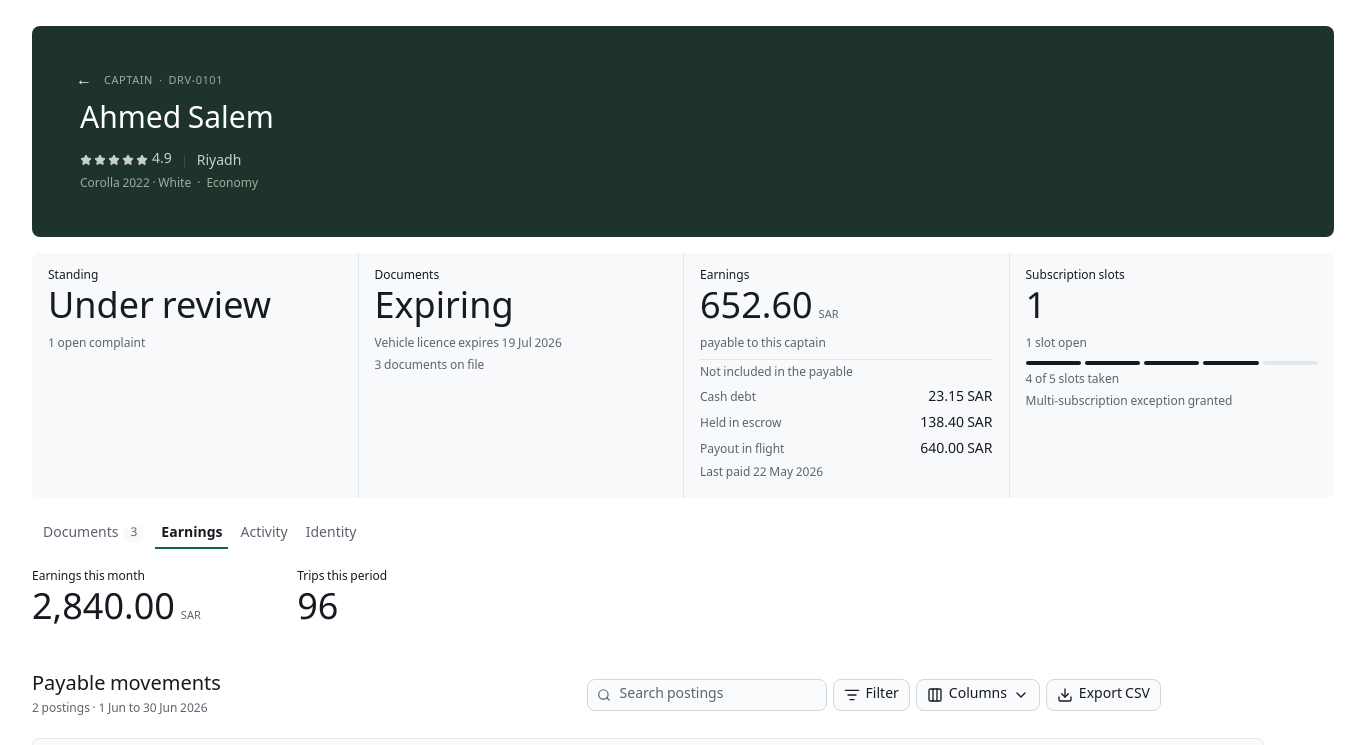
Test: the ledger’s three empties › ③ a search that narrows to nothing gets the shared filter sentence
Expected: the text "Ahmed Salem" is shown, [80,96,274,147]
Type "zzzznothingmatchesthis" into the field with placeholder "Search postings". click: (707, 695)
box: [587,679,827,711]
(page scrolled)
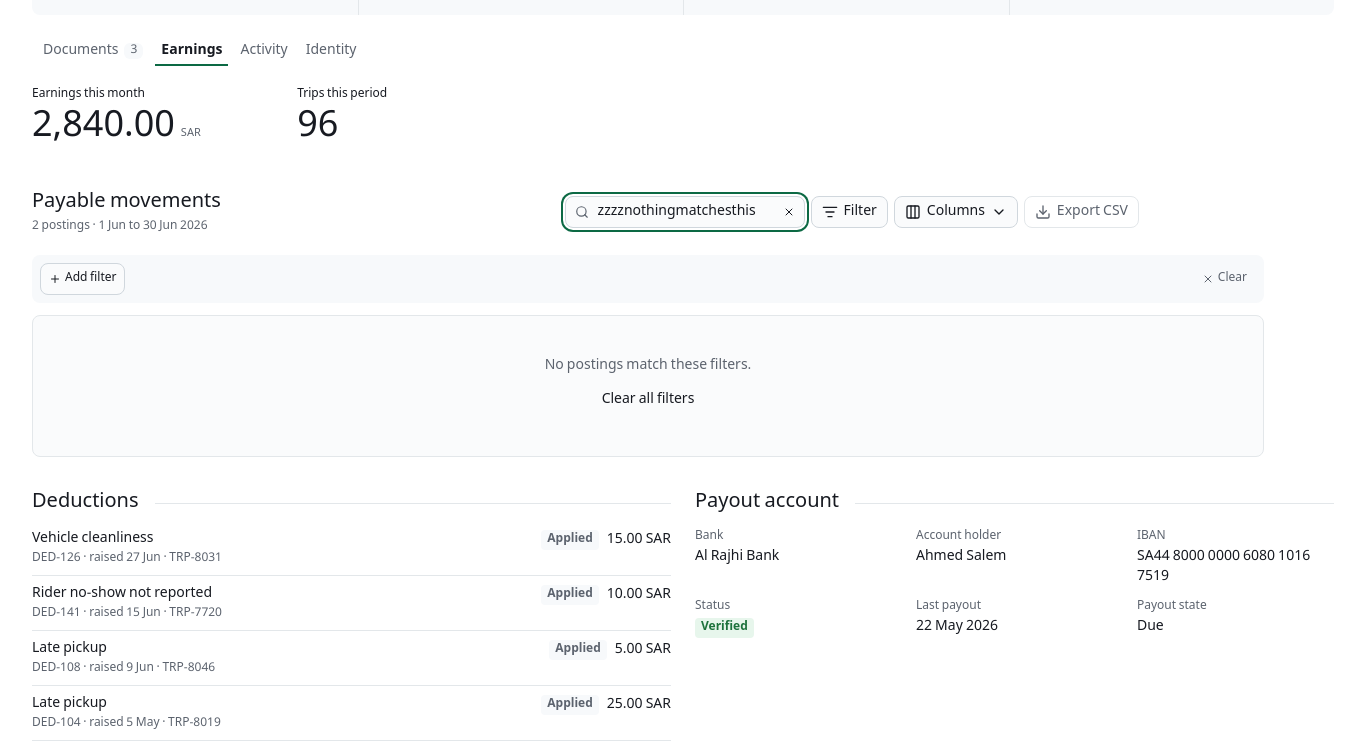
Result: the text "No postings match these filters." is shown at [545,356,751,376]
